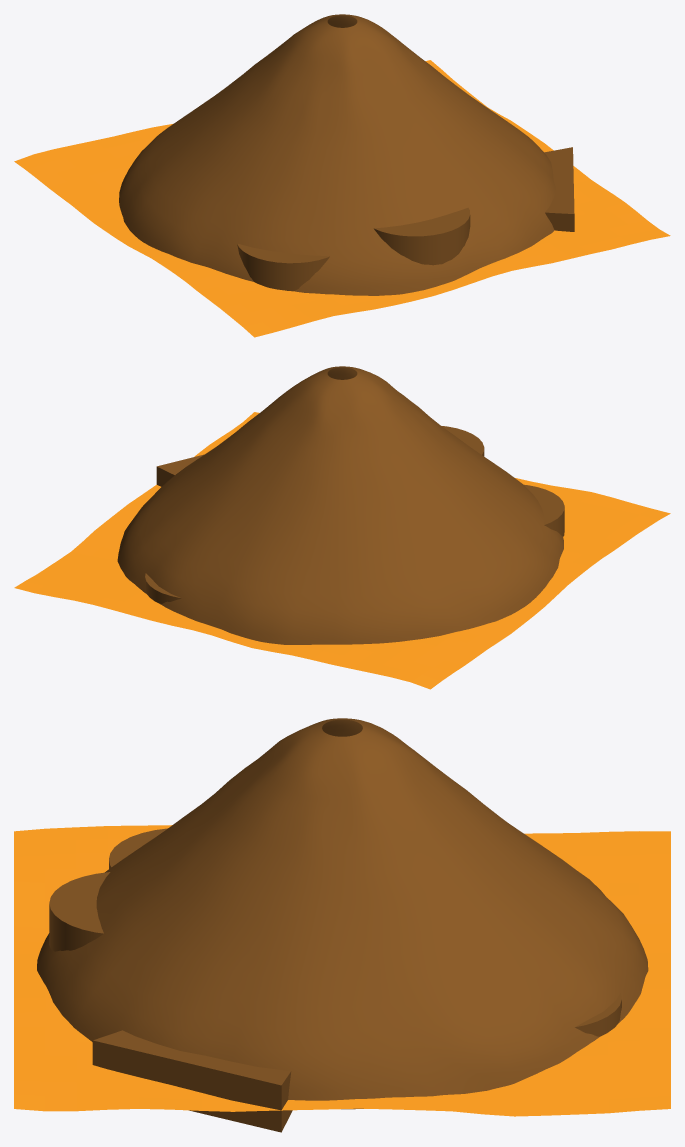
File: VolcanoTrack.glb
3 views of the same model, one above another, from view 1: azimuth 30°, elevation 25°; view 2: azimuth 150°, elevation 25°; view 3: azimuth 270°, elevation 25° (orthographic). The views are drawn at different scales.
Parts seen in each view (by area): view 1: Sphere, Plane, Cylinder.004, Cylinder.003, Cube.002; view 2: Sphere, Plane, Cylinder.003, Cube.002, Cylinder.002; view 3: Sphere, Plane, Cube.002, Cylinder.004, Cylinder.002, Cylinder.003.
Boxes of the visible parts, x1,y1,x2,y2 form: Sphere: (119,14,555,295); Plane: (14,60,670,337); Cylinder.004: (373,207,470,265); Cylinder.003: (237,243,329,291); Cube.002: (544,147,574,231); Sphere: (117,366,563,644); Plane: (14,412,670,689); Cylinder.003: (524,484,564,536); Cube.002: (156,454,203,486); Cylinder.002: (145,573,181,603); Sphere: (37,718,648,1109); Plane: (14,825,670,1116); Cube.002: (92,1030,292,1132); Cylinder.004: (49,872,110,951); Cylinder.002: (575,992,621,1036); Cylinder.003: (109,828,167,868).
Bounding box in the file's own units: 151 × 67.36 × 151.
